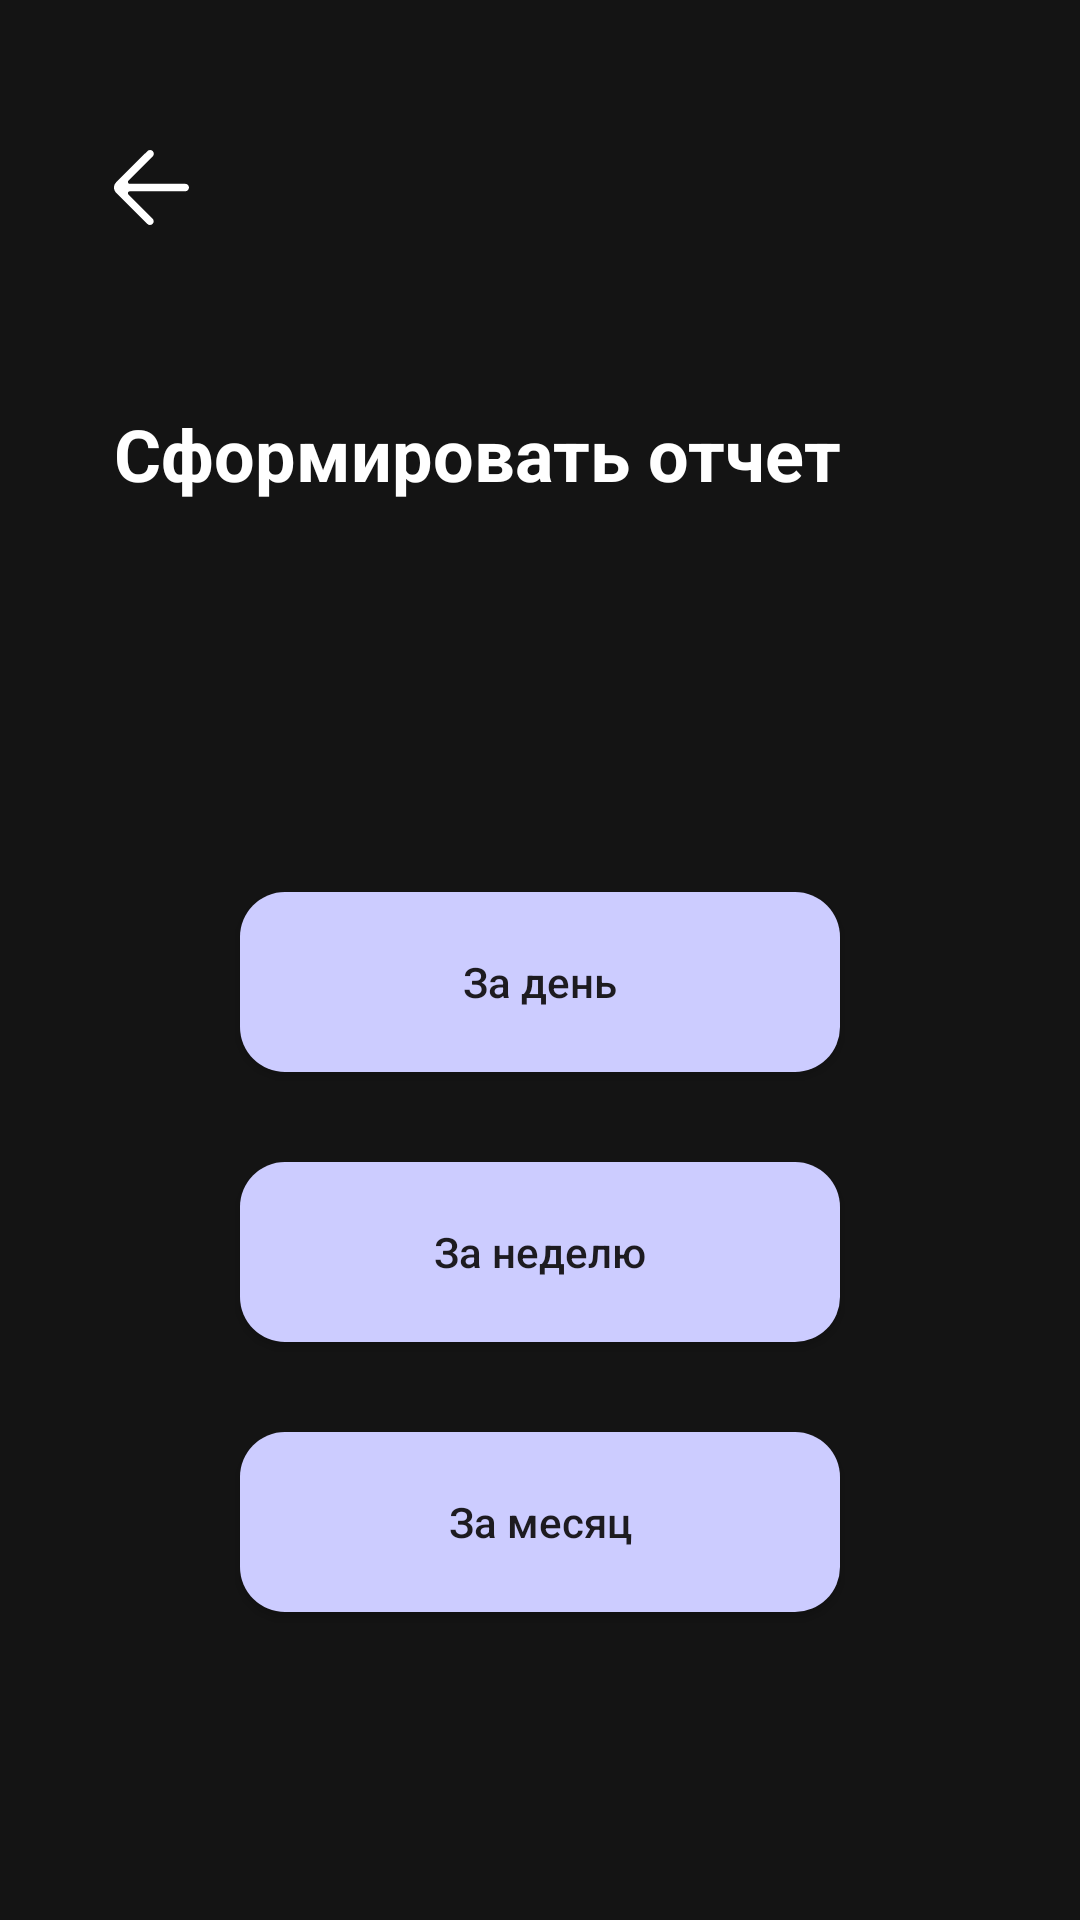

Icon bounding boxes for this 1080*1920 phone screenshot, format (x1=x1, y1=y1, x2=x2, y2=y2):
arrow left: (x1=114, y1=150, x2=189, y2=225)
